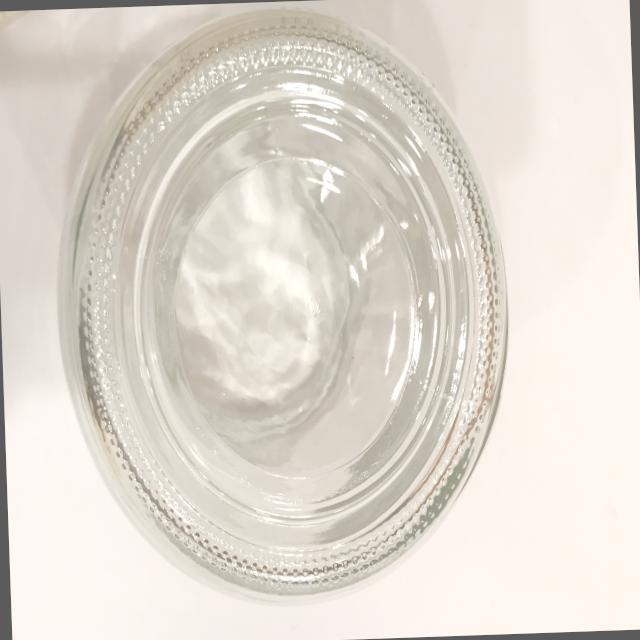Glass: (42, 0, 540, 624)
